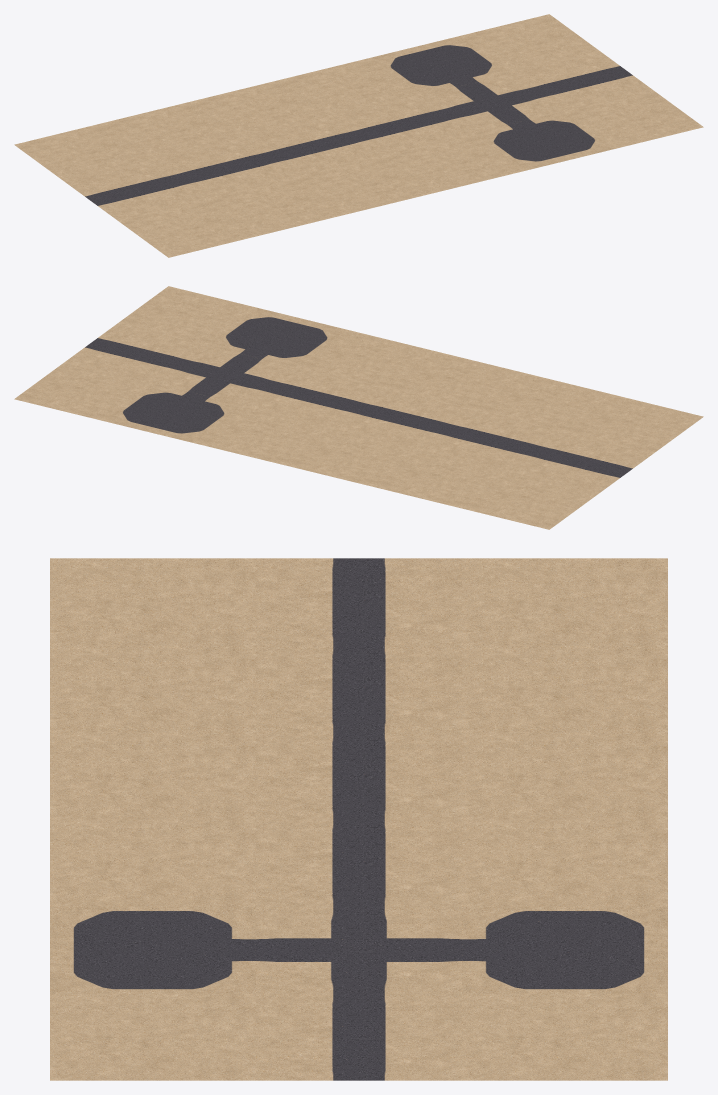
File: Suelofinal.fbx
3 views of the same model, one above another, from view 1: azimuth 30°, elevation 25°; view 2: azimuth 150°, elevation 25°; view 3: azimuth 270°, elevation 25° (orthographic). The views are drawn at different scales.
Visible parts, largest first — view 1: Asfalto.004, Asfalto.007, Asfalto.008, Asfalto.015, Asfalto.011, Asfalto.019, Asfalto.005, Asfalto.018, Asfalto.002, Asfalto.003, Asfalto.009, Asfalto.012 (+6 smaller); view 2: Asfalto.004, Asfalto.008, Asfalto.011, Asfalto.019, Asfalto.007, Asfalto.015, Asfalto.003, Asfalto.014, Asfalto.002, Asfalto.005, Asfalto.009, Asfalto.012 (+6 smaller); view 3: Asfalto.002, Asfalto.003, Asfalto.004, Asfalto.005, Asfalto.006, Asfalto.007, Asfalto.008, Asfalto.009, Asfalto.010, Asfalto.011, Asfalto.012, Asfalto.013 (+6 smaller).
Boxes of the visible parts, left/top/right/bottom form: Asfalto.004: left=333, top=95, right=473, bottom=154; Asfalto.007: left=460, top=14, right=600, bottom=73; Asfalto.008: left=244, top=117, right=384, bottom=176; Asfalto.015: left=117, top=198, right=257, bottom=257; Asfalto.011: left=563, top=89, right=703, bottom=148; Asfalto.019: left=14, top=123, right=154, bottom=182; Asfalto.005: left=474, top=111, right=614, bottom=170; Asfalto.018: left=103, top=101, right=243, bottom=160; Asfalto.002: left=423, top=73, right=562, bottom=132; Asfalto.003: left=371, top=36, right=511, bottom=95; Asfalto.009: left=155, top=139, right=294, bottom=198; Asfalto.012: left=385, top=133, right=524, bottom=192; Asfalto.004: left=244, top=367, right=384, bottom=426; Asfalto.008: left=333, top=389, right=473, bottom=448; Asfalto.011: left=117, top=286, right=257, bottom=345; Asfalto.019: left=460, top=470, right=600, bottom=529; Asfalto.007: left=14, top=361, right=154, bottom=420; Asfalto.015: left=563, top=395, right=703, bottom=454; Asfalto.003: left=103, top=383, right=243, bottom=442; Asfalto.014: left=474, top=373, right=614, bottom=432; Asfalto.002: left=155, top=345, right=294, bottom=404; Asfalto.005: left=206, top=308, right=346, bottom=367; Asfalto.009: left=423, top=411, right=562, bottom=470; Asfalto.012: left=296, top=329, right=435, bottom=388; Asfalto.002: left=256, top=906, right=461, bottom=993; Asfalto.003: left=462, top=906, right=667, bottom=993; Asfalto.004: left=256, top=819, right=461, bottom=906; Asfalto.005: left=50, top=906, right=255, bottom=993; Asfalto.006: left=256, top=993, right=461, bottom=1080; Asfalto.007: left=462, top=993, right=667, bottom=1080; Asfalto.008: left=256, top=732, right=461, bottom=819; Asfalto.009: left=256, top=645, right=461, bottom=732; Asfalto.010: left=256, top=558, right=461, bottom=645; Asfalto.011: left=50, top=993, right=255, bottom=1080; Asfalto.012: left=50, top=819, right=255, bottom=906; Asfalto.013: left=50, top=732, right=255, bottom=819.
Size of the model in its own units: 26511 by 0.00307 by 13255.
